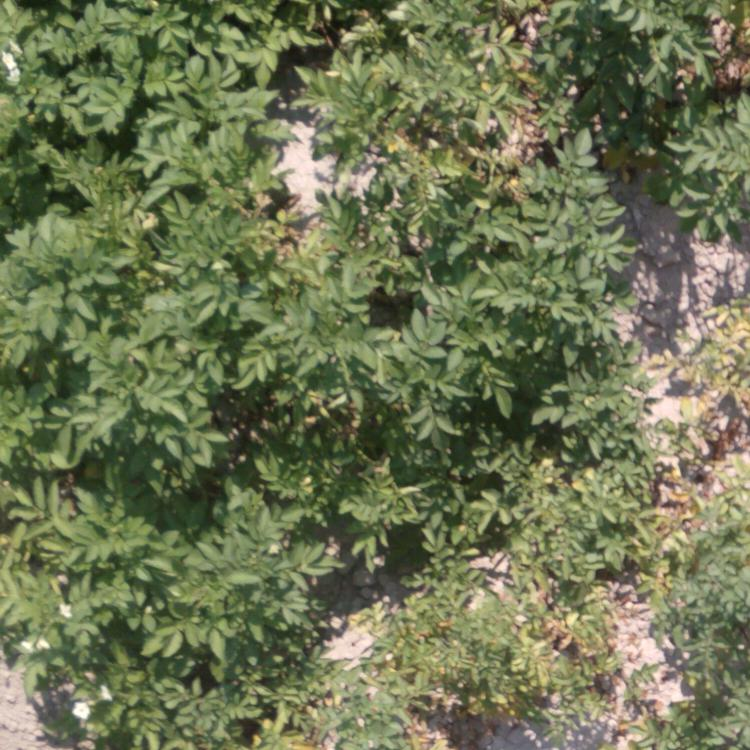healthy: (12, 226, 204, 733), (11, 3, 295, 203), (228, 257, 366, 614), (397, 235, 627, 443), (622, 10, 750, 219)
stressed: (389, 459, 661, 740), (327, 4, 586, 200), (667, 259, 749, 525), (218, 643, 380, 750)
